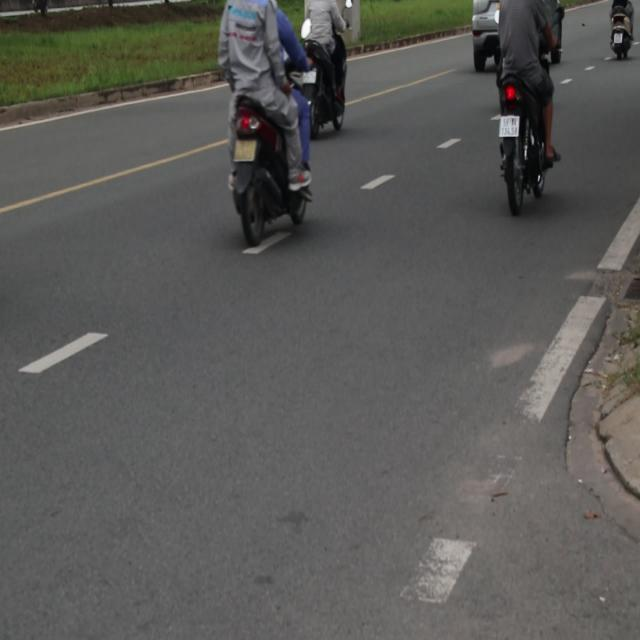car: (471, 1, 502, 72)
motorbike: (222, 101, 313, 236), (493, 79, 562, 222), (292, 31, 356, 131), (608, 5, 634, 61)
